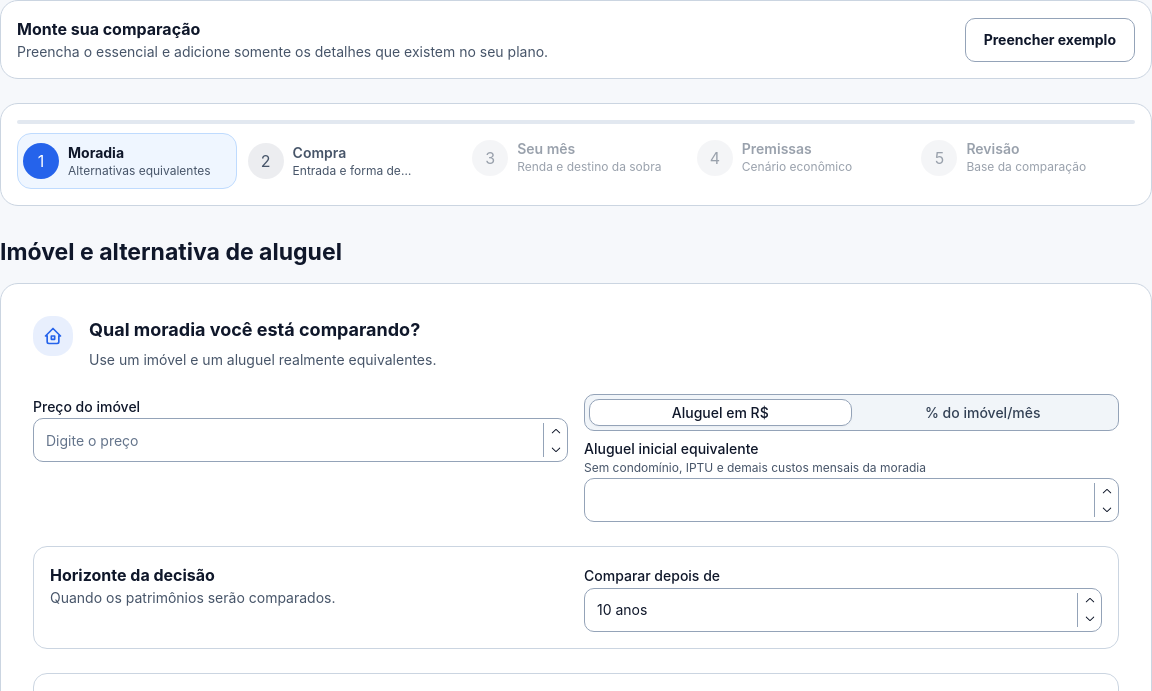
Test case: ComparisonJourney › uses Enter to advance the journey instead of skipping review and submitting
The width and height of the screenshot is (1152, 691).
Click the button "Preencher exemplo" at {"x": 1050, "y": 40}, box [965, 18, 1135, 62]
(page scrolled)
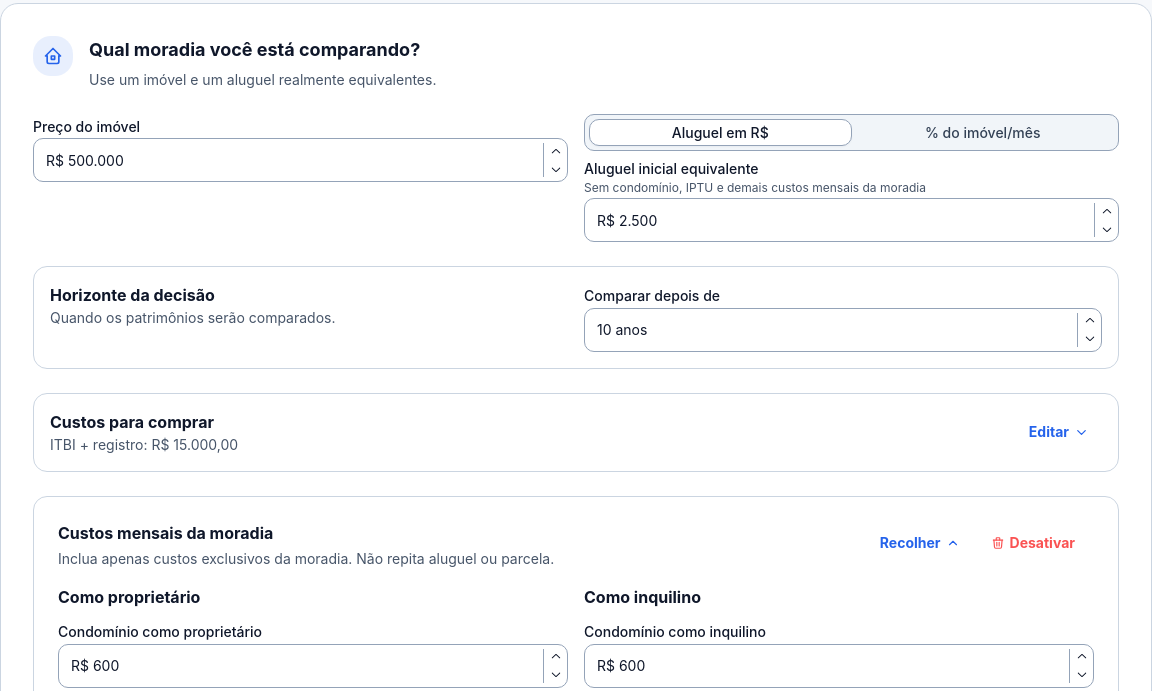
Submit the form
(page scrolled)
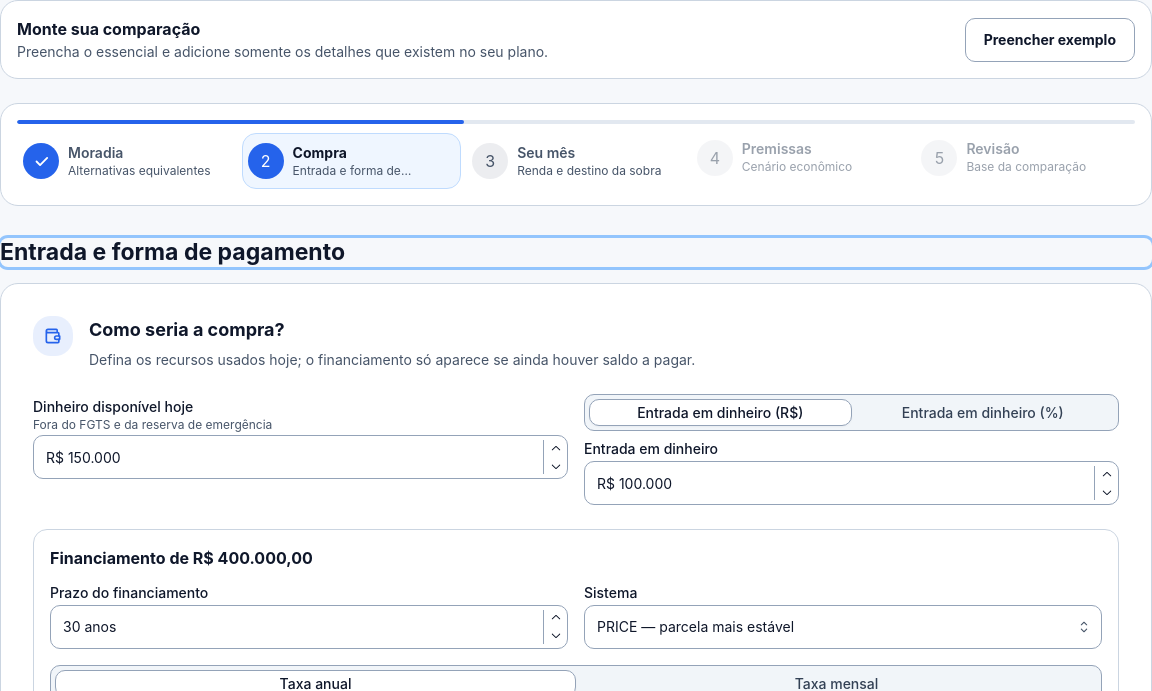
Check: the heading "Entrada e forma de pagamento" is shown, box [0, 238, 1151, 267]
